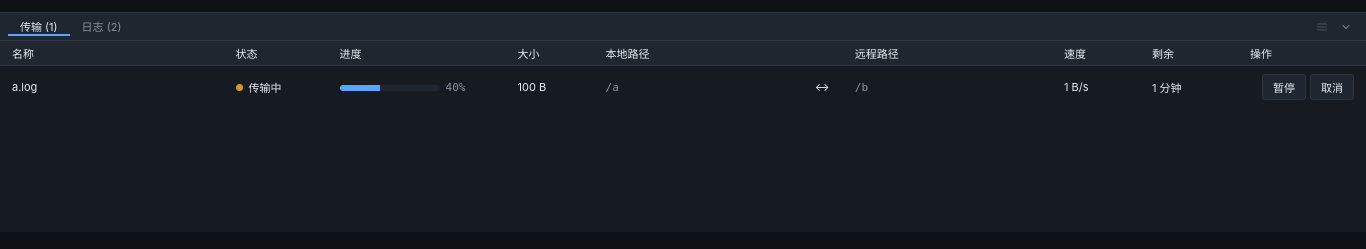
Test: TransferPanel 日志页 › 切到日志 tab 后逐条渲染真实日志（含时间、等级与明细）
Click the button with test id "xfer-tab-log" at (102, 26), box x1=70 y1=18 x2=133 y2=36
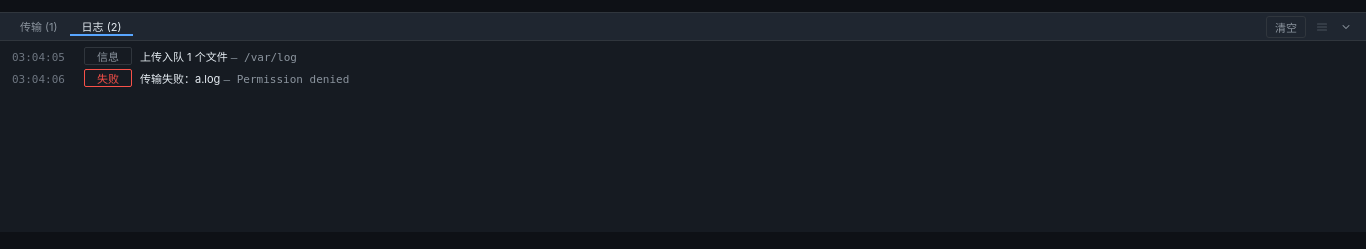
Check: the list with test id "xfer-log-list" shows "上传入队 1 个文件", box x1=140 y1=50 x2=231 y2=64
Check: the list with test id "xfer-log-list" shows "传输失败：a.log", box x1=140 y1=72 x2=224 y2=86
Check: the list with test id "xfer-log-list" shows "Permission denied", box x1=224 y1=73 x2=349 y2=86
